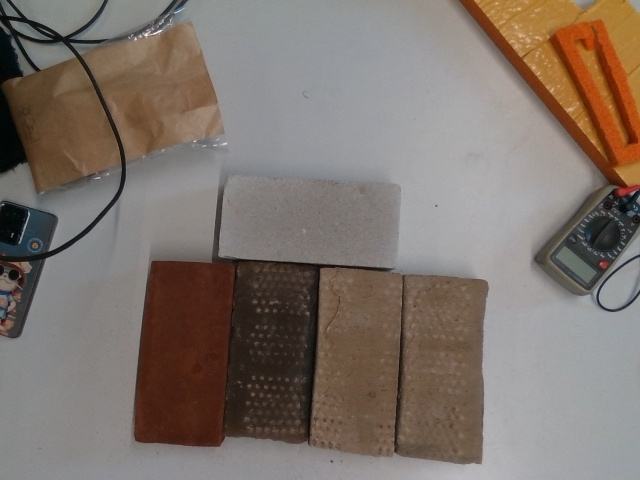brick: (217, 174, 402, 268), (225, 260, 316, 443), (400, 269, 487, 459), (314, 264, 401, 454), (139, 262, 229, 445)
